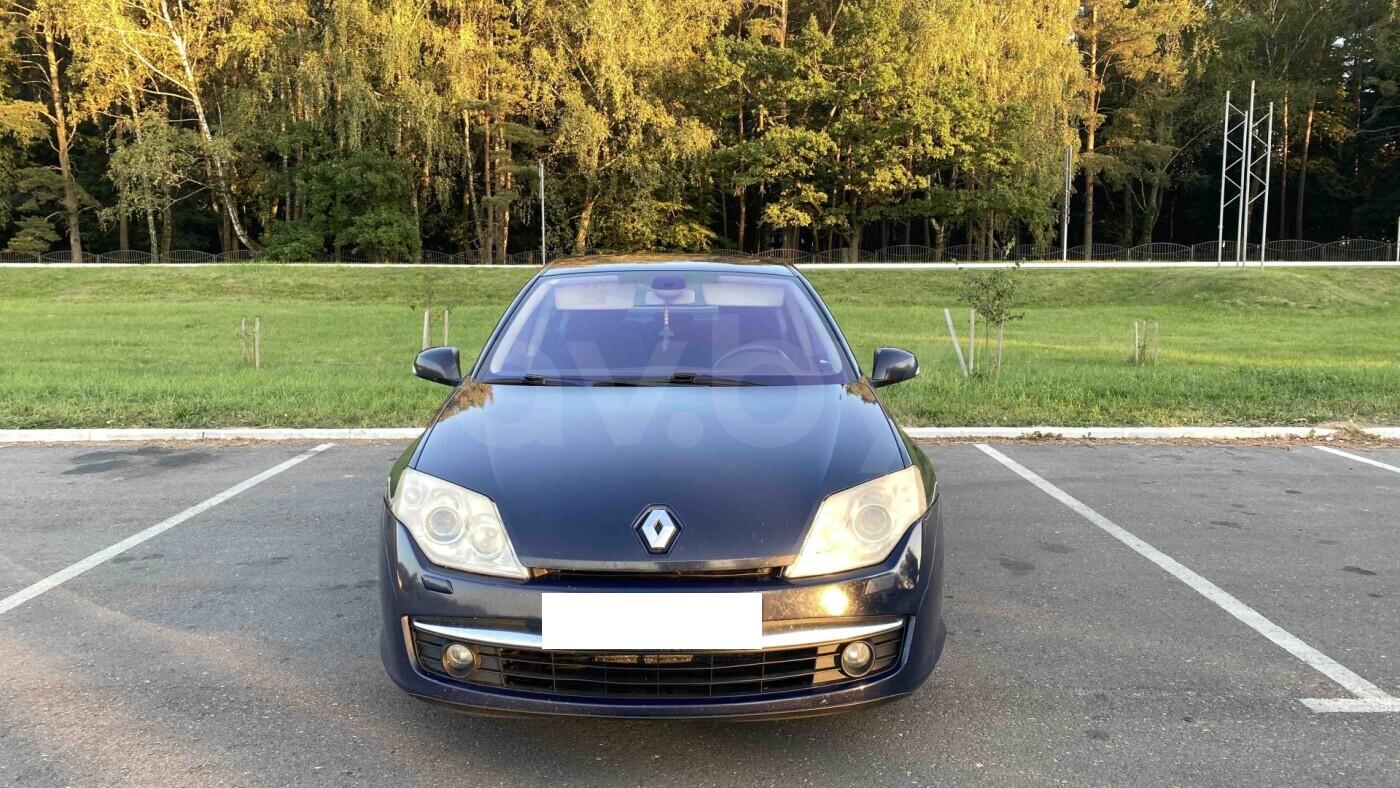Laguna_2007-2011: (376, 259, 945, 718)
